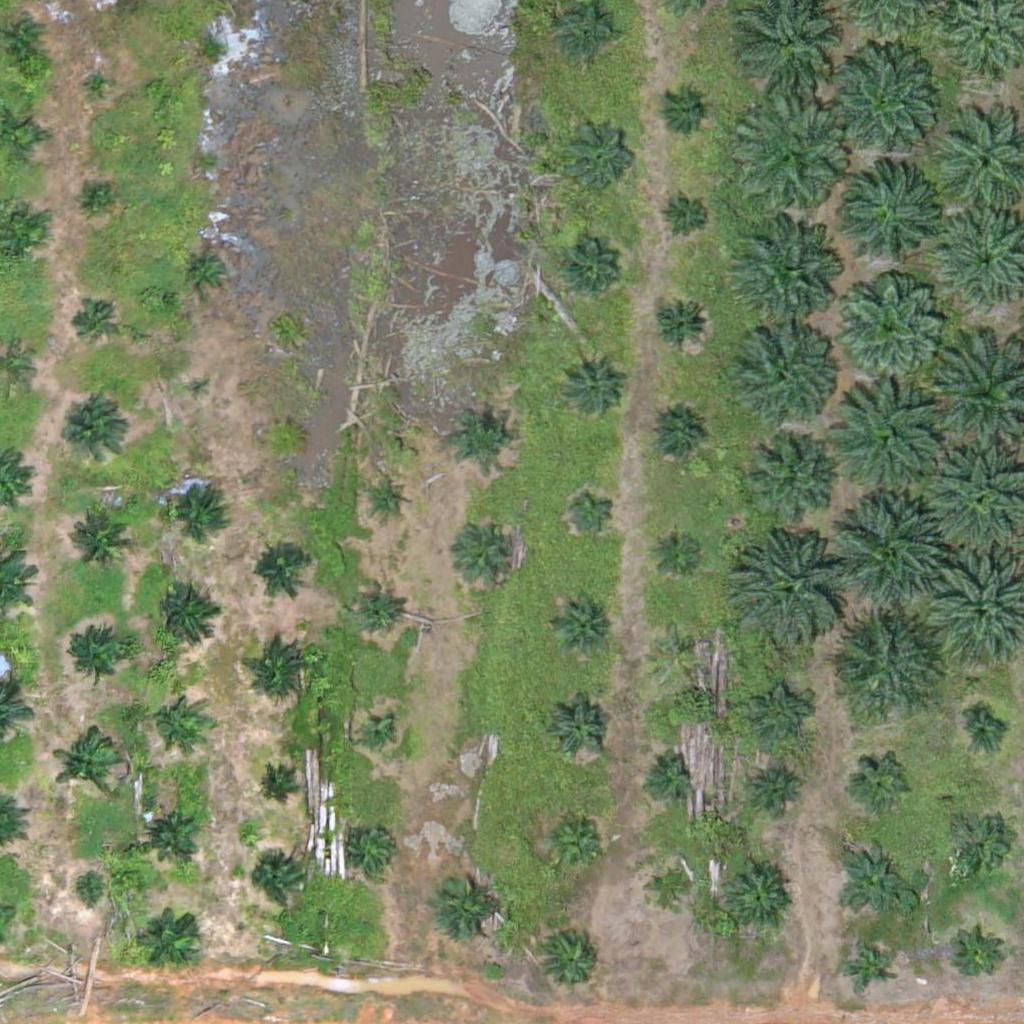Kelapa_Sawit: (727, 527, 852, 653), (834, 386, 947, 500), (832, 271, 945, 385), (736, 103, 849, 217), (835, 492, 948, 605), (826, 607, 939, 720), (826, 48, 939, 161), (729, 222, 841, 336), (735, 320, 835, 421), (843, 164, 943, 264), (745, 437, 833, 525), (60, 627, 135, 703), (56, 399, 131, 475), (64, 501, 139, 577), (431, 869, 506, 945), (52, 729, 127, 805), (563, 116, 638, 191), (720, 859, 795, 934), (836, 841, 911, 916), (461, 520, 524, 583), (450, 404, 513, 467), (165, 476, 228, 539), (142, 906, 205, 969), (141, 801, 204, 864), (559, 243, 622, 306), (548, 592, 611, 655), (548, 697, 611, 760), (541, 929, 604, 992), (944, 811, 1007, 874), (541, 811, 604, 874), (649, 293, 712, 356), (251, 638, 313, 701), (250, 538, 312, 601), (154, 584, 217, 646), (560, 354, 622, 417), (748, 684, 810, 747), (852, 753, 914, 816), (646, 405, 708, 468), (950, 933, 1000, 984), (754, 762, 804, 813), (843, 942, 893, 993), (652, 522, 702, 573), (651, 619, 701, 670), (641, 748, 691, 799), (567, 484, 617, 535), (657, 84, 707, 135), (69, 298, 119, 349), (150, 693, 200, 743), (251, 856, 301, 906), (351, 823, 401, 873), (645, 864, 695, 914), (353, 582, 403, 632), (661, 192, 711, 242), (183, 246, 233, 296), (370, 480, 408, 518), (360, 718, 398, 756), (69, 872, 107, 910), (267, 420, 305, 458), (81, 68, 119, 106), (5, 20, 43, 58), (965, 714, 1002, 752), (255, 769, 292, 807), (83, 184, 108, 210), (187, 374, 212, 399)
